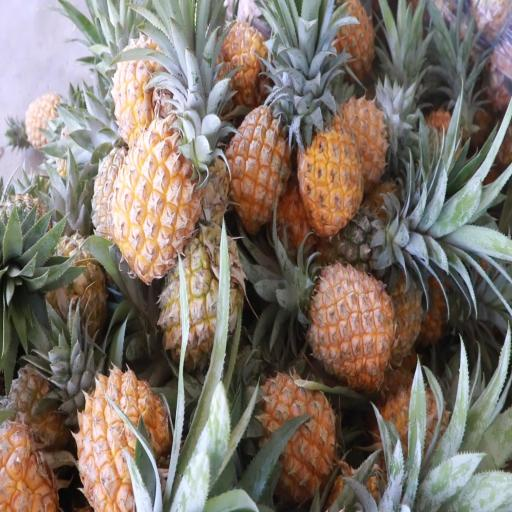------------------------------: (160, 236, 237, 364)
Pineapple - v8 v1: (78, 368, 163, 512), (114, 127, 198, 271), (310, 269, 395, 383), (251, 376, 334, 491), (222, 103, 292, 225), (301, 125, 366, 234), (112, 44, 176, 138), (218, 18, 268, 96)
